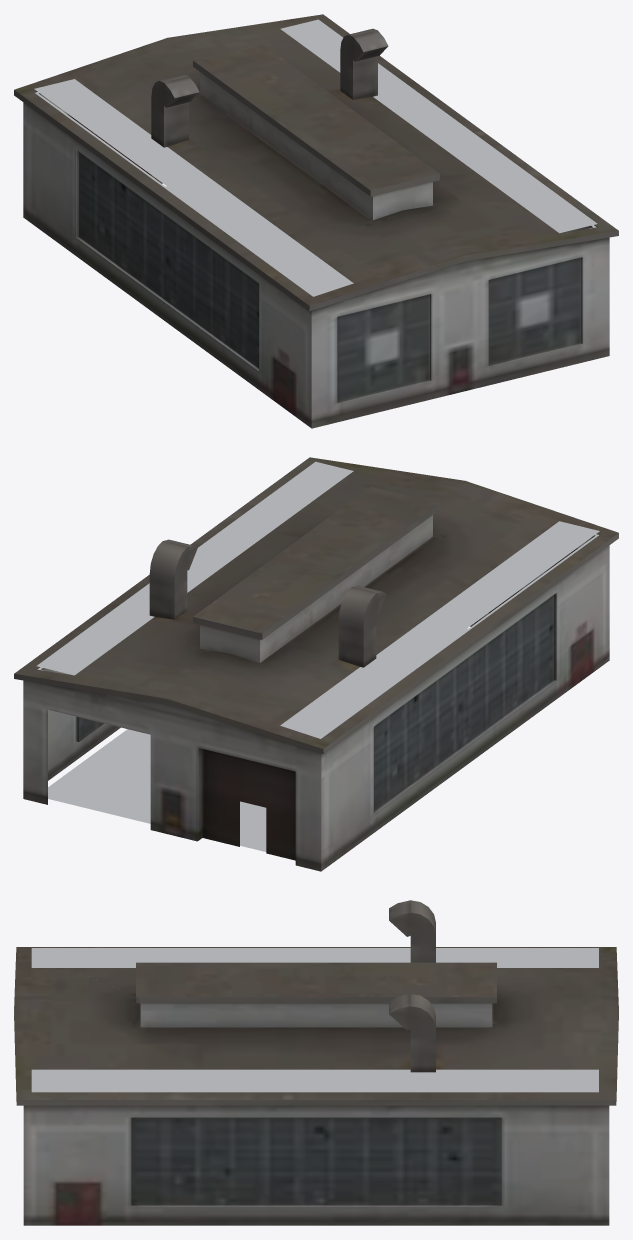
File: rail-depot.access-v6.lod1.glb
3 views of the same model, one above another, from view 1: azimuth 30°, elevation 25°; view 2: azimuth 150°, elevation 25°; view 3: azimuth 270°, elevation 25° (orthographic).
Visible parts, largest first — view 1: 3LOD0_UtilityBuilding3_0, Walkable floors and stairs; view 2: 3LOD0_UtilityBuilding3_0, Walkable floors and stairs; view 3: 3LOD0_UtilityBuilding3_0, Walkable floors and stairs.
Part boxes in pixels (x1,y1,x2,y2): 3LOD0_UtilityBuilding3_0: (14,14,618,428); Walkable floors and stairs: (34,19,597,296); 3LOD0_UtilityBuilding3_0: (14,457,618,871); Walkable floors and stairs: (36,461,599,851); 3LOD0_UtilityBuilding3_0: (14,900,618,1225); Walkable floors and stairs: (31,948,598,1092).
Size of the model in its own units: 16.32 by 9.88 by 27.2.
Materials: 2 (1 with a texture image).
